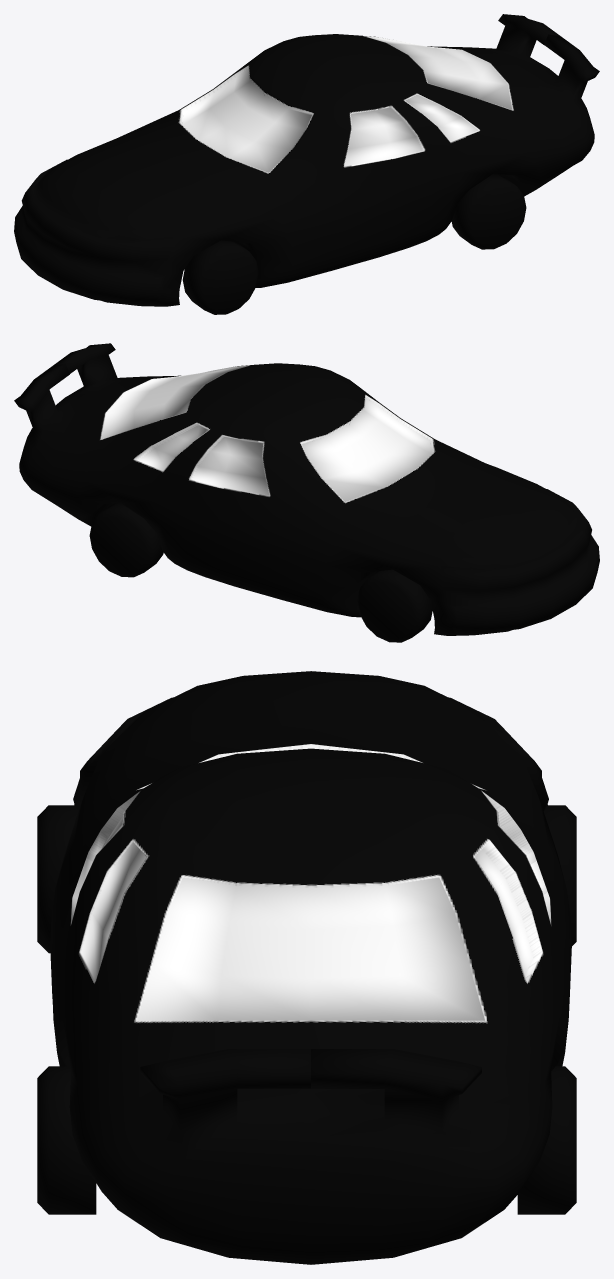
File: CarShapeKey.fbx
3 views of the same model, one above another, from view 1: azimuth 30°, elevation 25°; view 2: azimuth 150°, elevation 25°; view 3: azimuth 270°, elevation 25° (orthographic). The views are drawn at different scales.
Visible parts, largest first — view 1: CAr; view 2: CAr; view 3: CAr.
Boxes of the visible parts, <box> form: CAr: <box>14,14,599,314</box>; CAr: <box>14,343,599,642</box>; CAr: <box>37,671,576,1264</box>.
Size of the model in its own units: 2197 by 657 by 975.
Materials: 1 (1 with a texture image).
